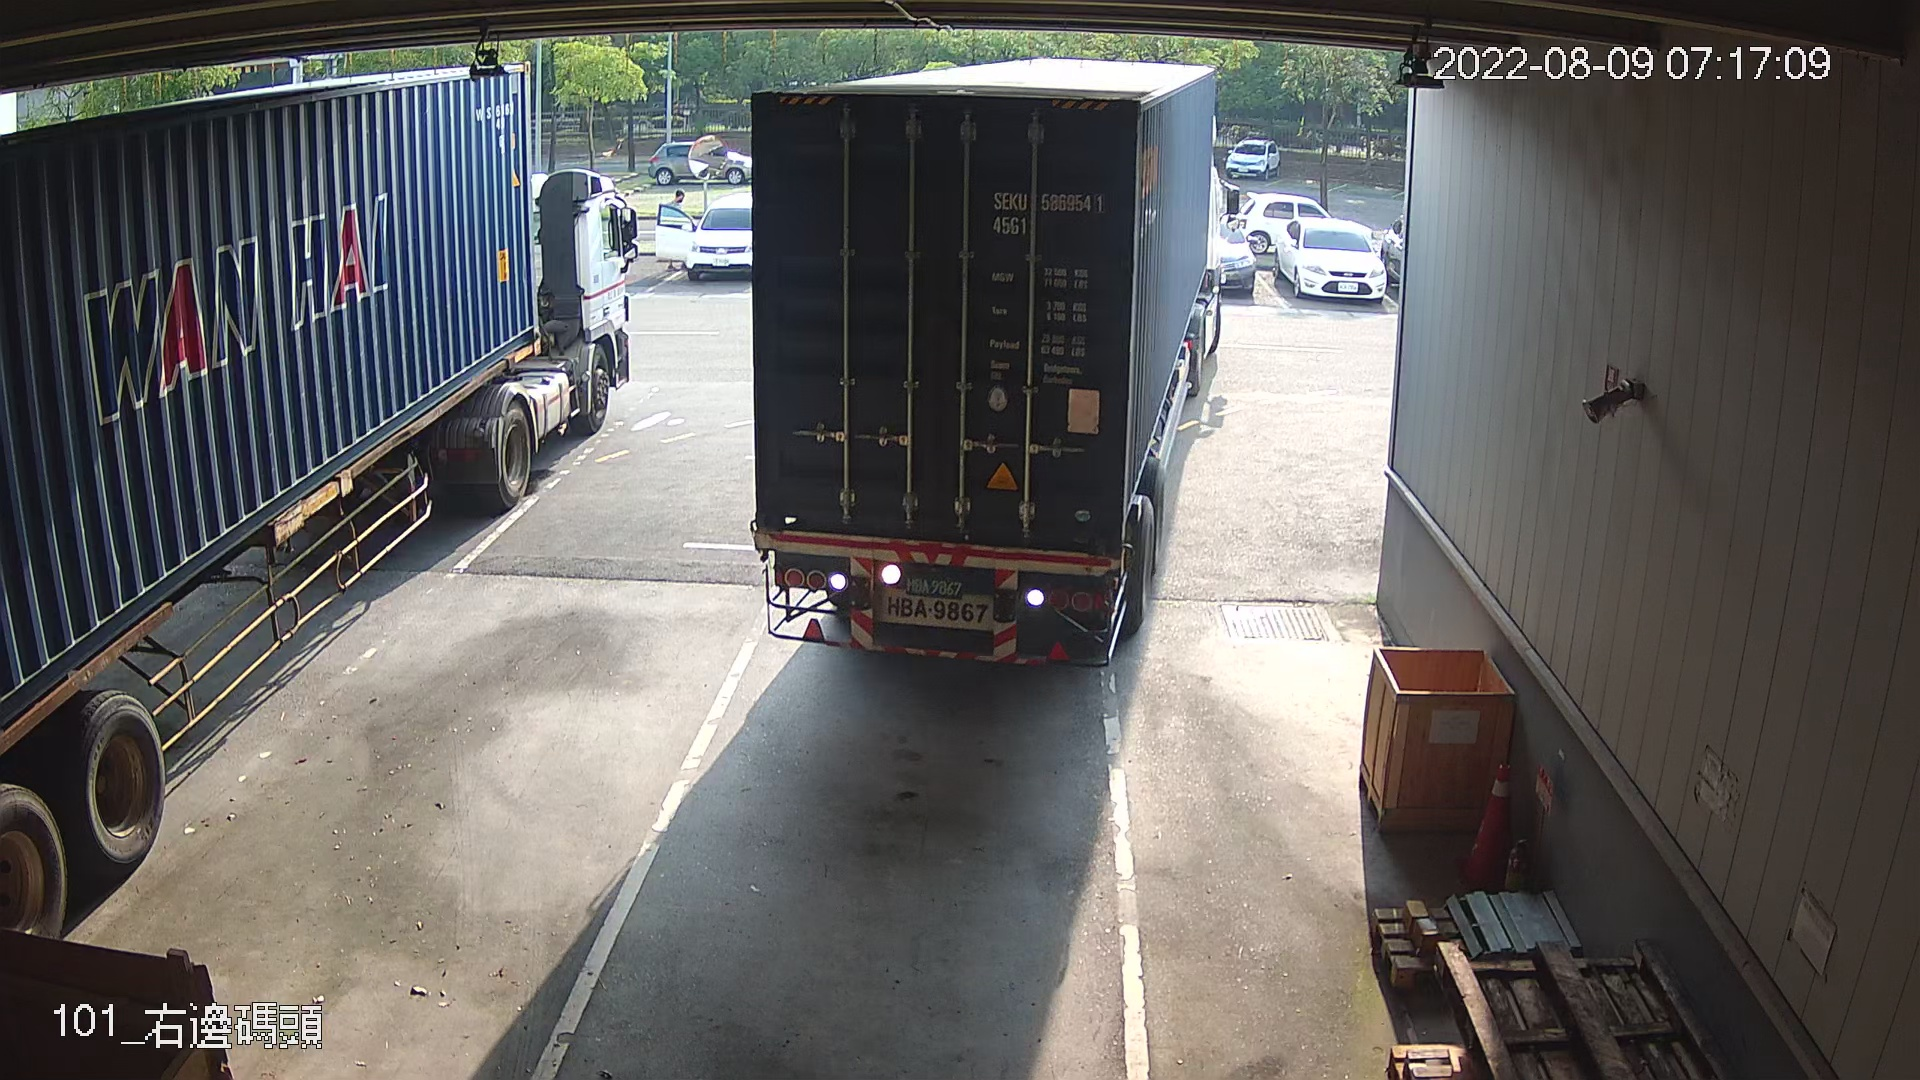container: (982, 182, 1112, 243)
